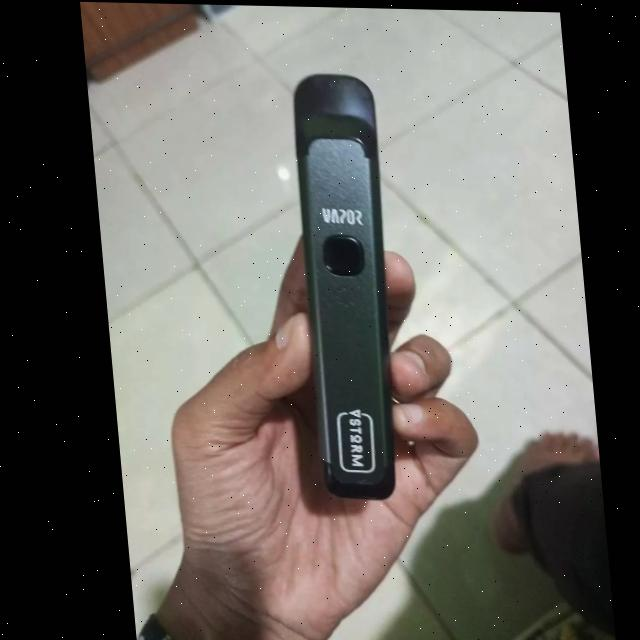vape: (284, 74, 402, 501)
